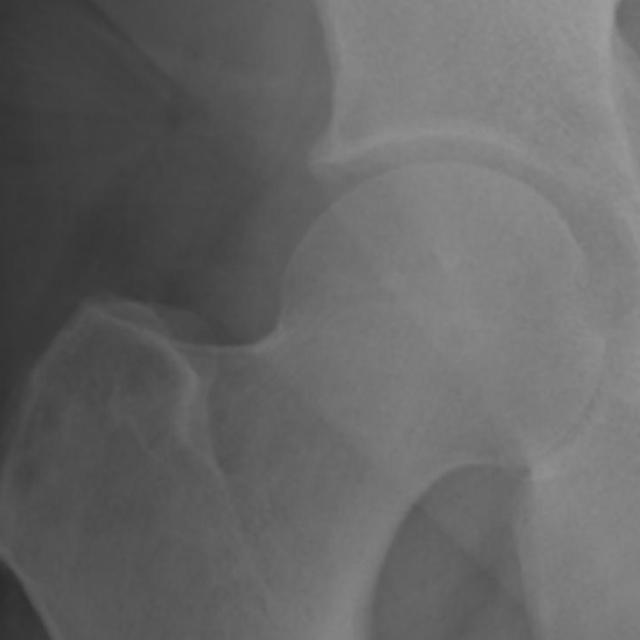Fitted_femural_head: (342, 159, 432, 342)
